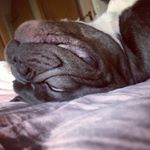puppy: (1, 16, 150, 101)
